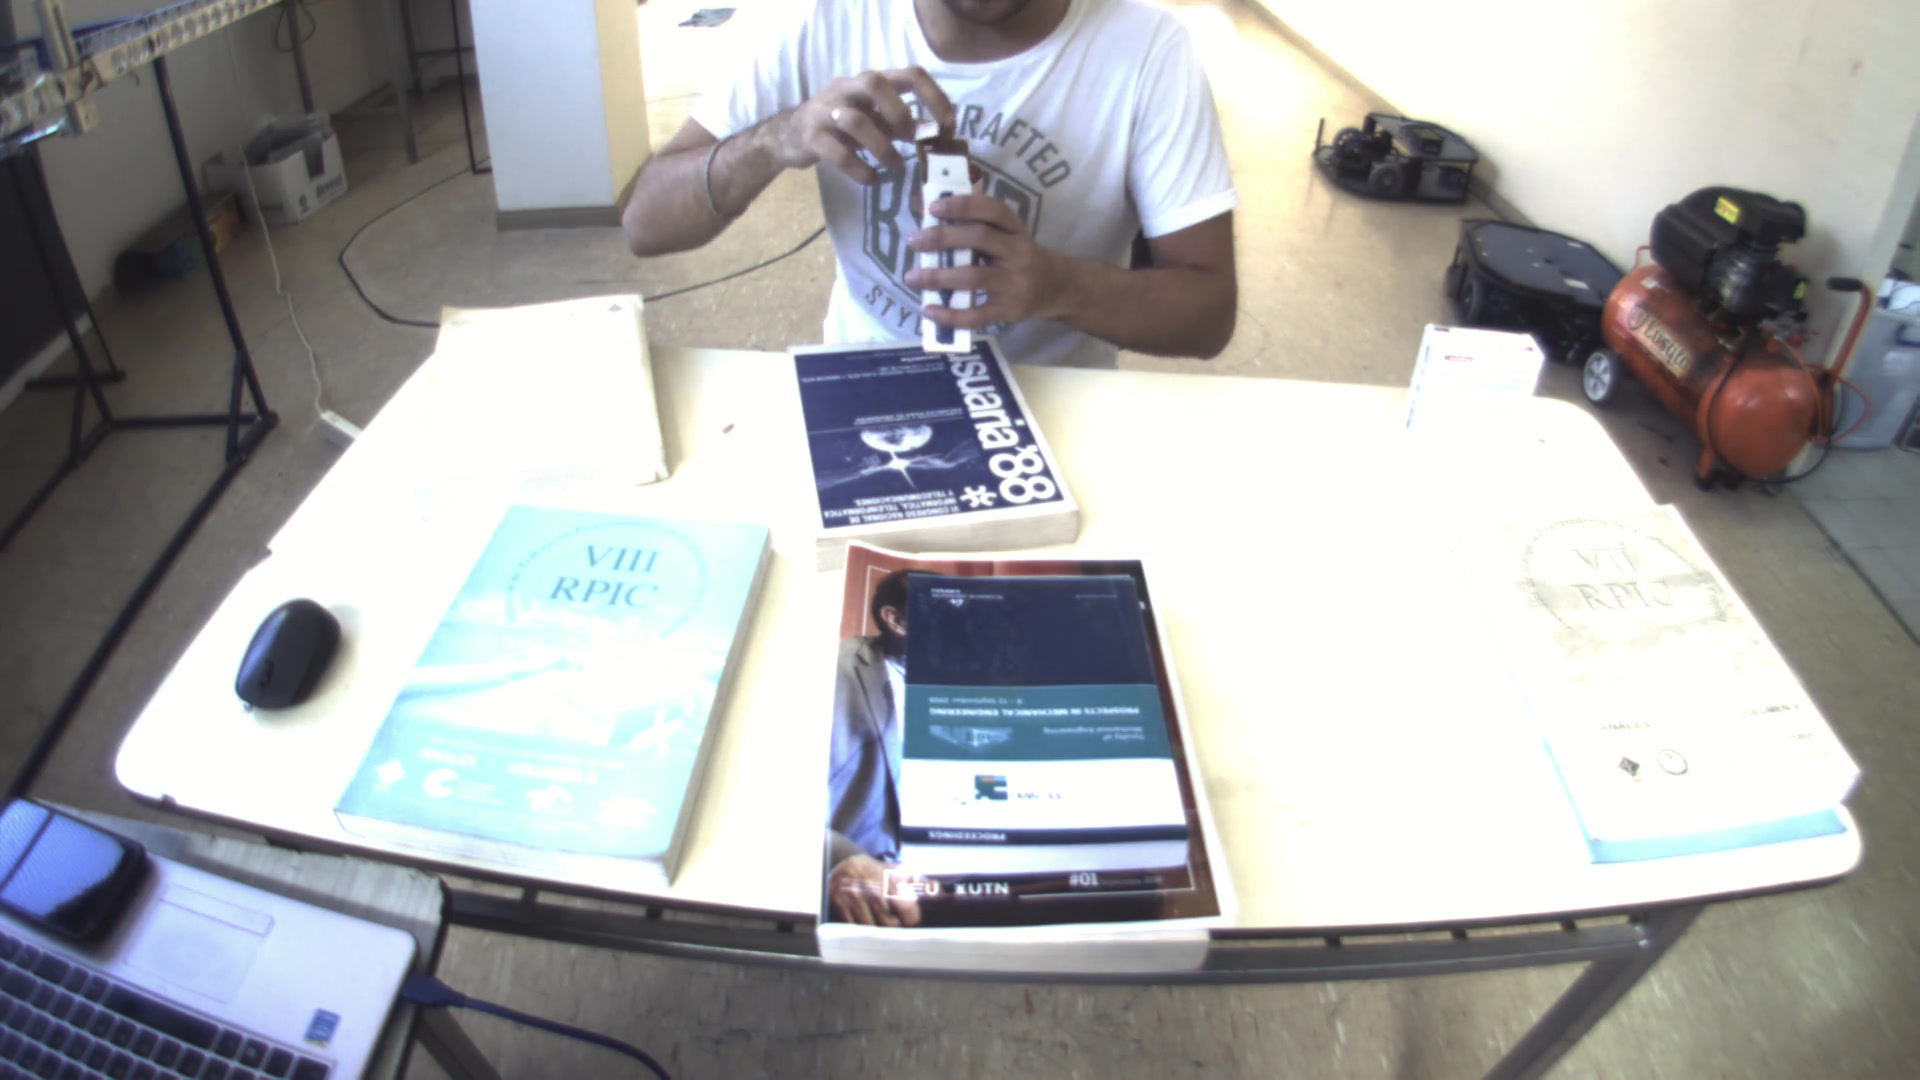hand: (890, 170, 1063, 339), (756, 61, 964, 190)
